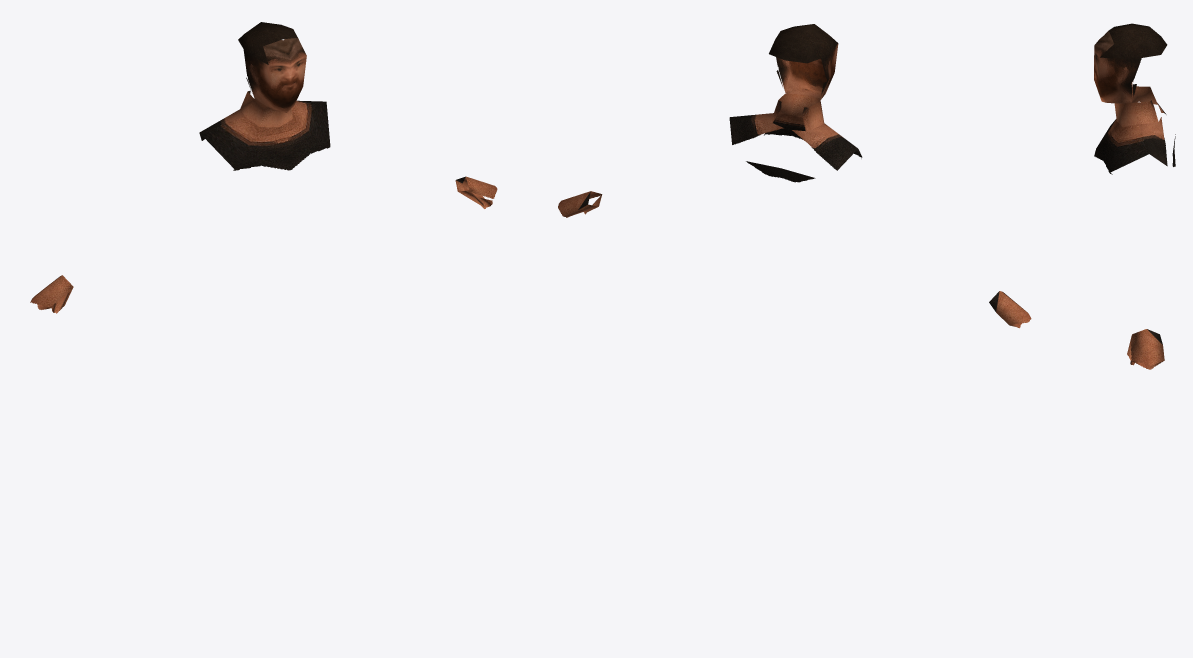
The model's file is Caseoh.fbx.
3 renders of one model, left to right at view 1: azimuth 30°, elevation 25°; view 2: azimuth 150°, elevation 25°; view 3: azimuth 270°, elevation 25°, orthographic.
Parts seen in each view (by area): view 1: HumanoidBase_Overlapping; view 2: HumanoidBase_Overlapping; view 3: HumanoidBase_Overlapping.
Part boxes in pixels (x1,y1,x2,y2): HumanoidBase_Overlapping: (30, 22, 497, 313); HumanoidBase_Overlapping: (558, 24, 1031, 328); HumanoidBase_Overlapping: (1094, 23, 1175, 369).
Size of the model in its own units: 161 by 180 by 28.62.
Materials: 1 (1 with a texture image).
